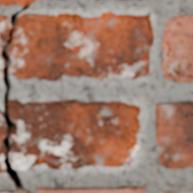brick: (157, 103, 192, 168), (162, 17, 192, 76), (162, 59, 192, 82), (38, 188, 145, 192), (0, 0, 35, 5), (168, 190, 192, 192), (15, 190, 27, 192)
broken_brick: (10, 12, 154, 82), (9, 100, 141, 171), (0, 16, 8, 79), (0, 114, 5, 173)
crack: (0, 2, 31, 190), (165, 42, 192, 79)
